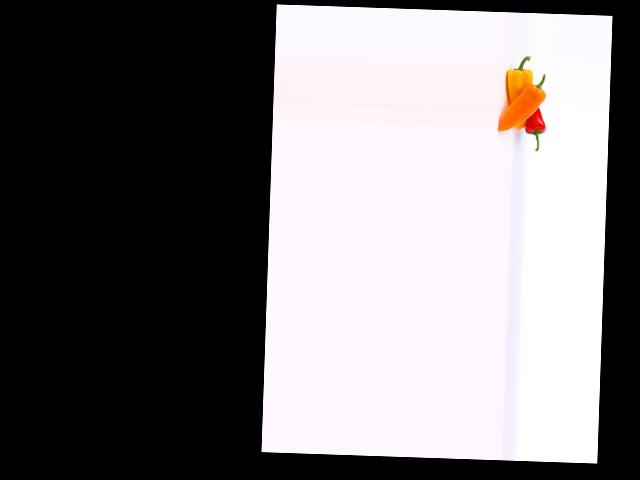bell_pepper: (499, 53, 536, 111)
